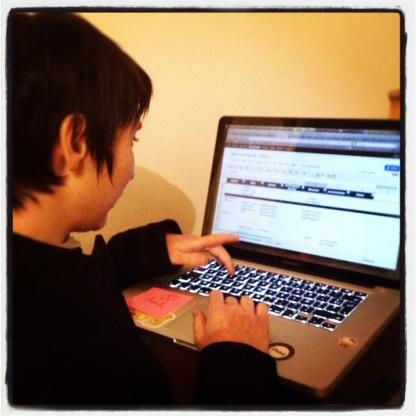board: (122, 112, 400, 396)
